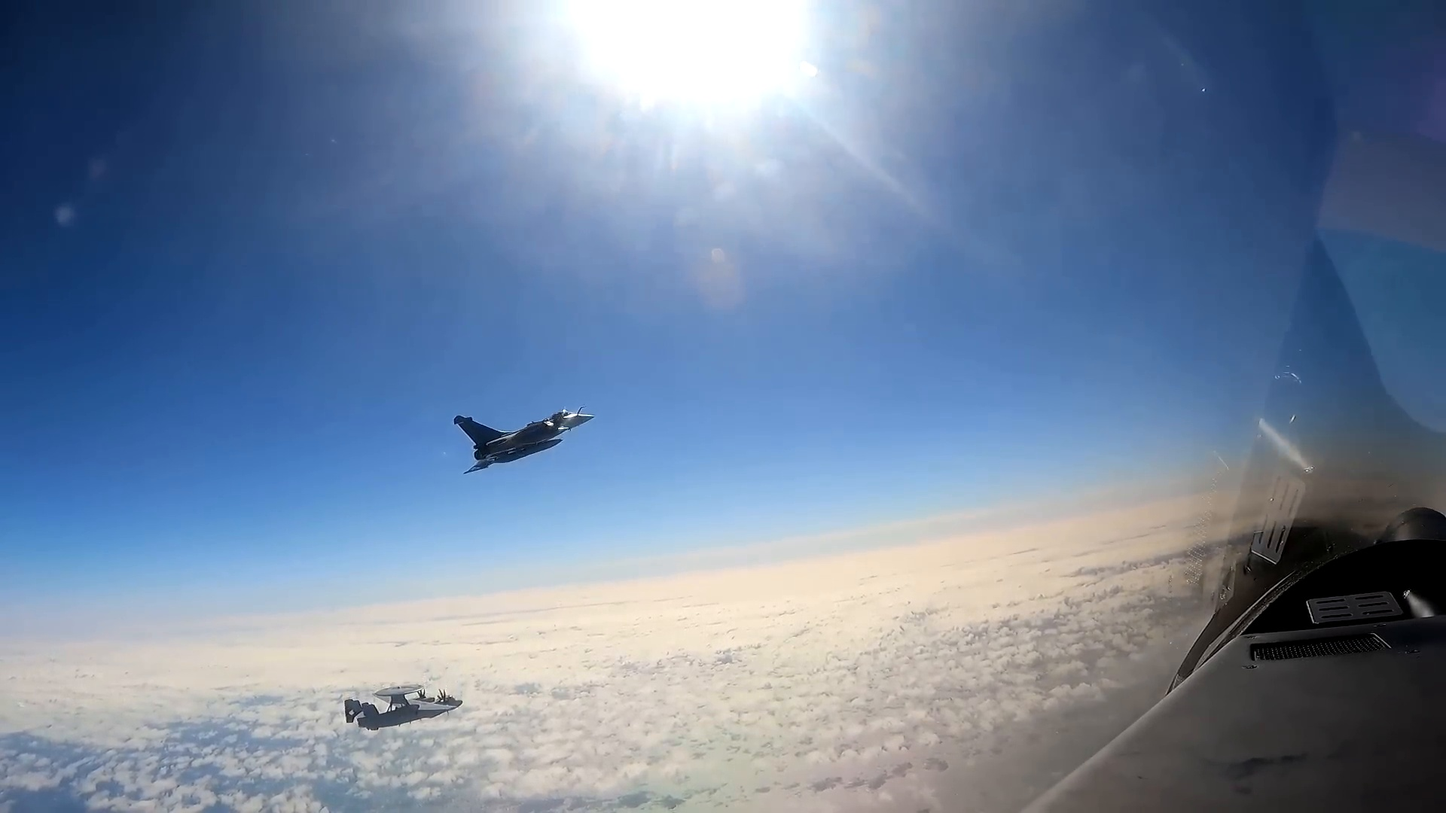Rafale: (452, 402, 600, 477)
